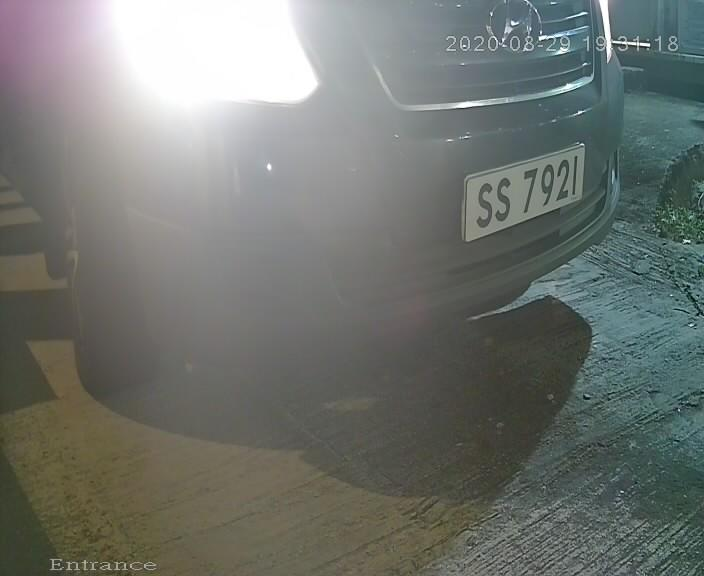License Plate: (453, 137, 591, 247)
